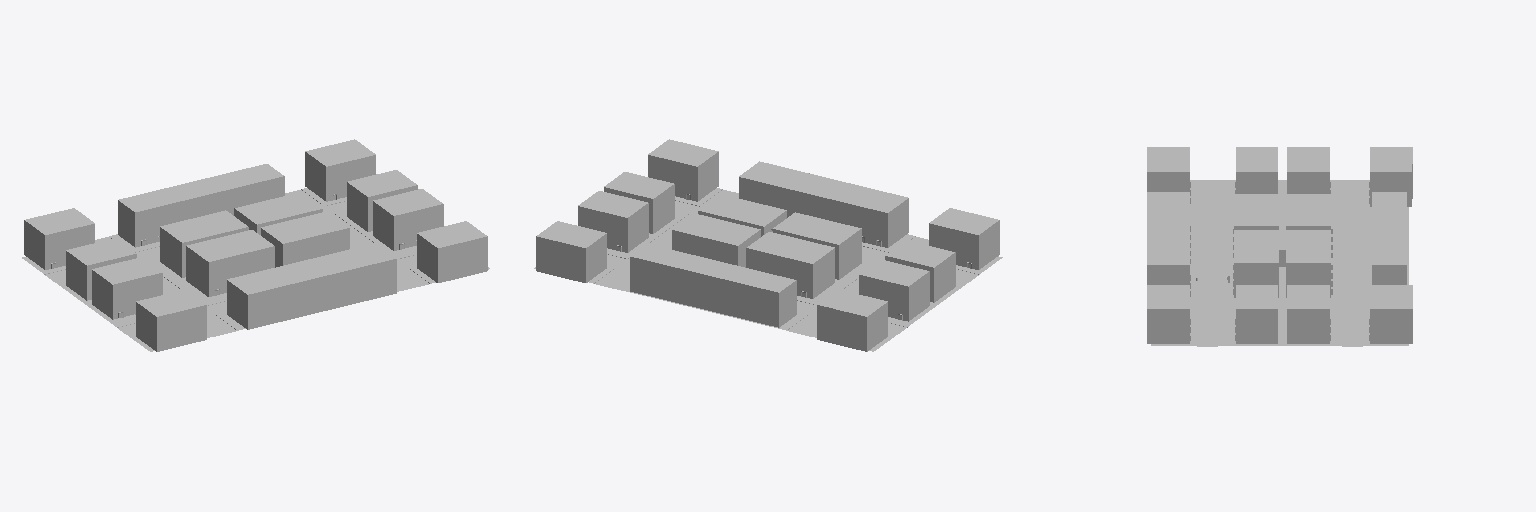
The model's file is Street.obj.
3 views of the same model, side by side, from view 1: azimuth 30°, elevation 25°; view 2: azimuth 150°, elevation 25°; view 3: azimuth 270°, elevation 25° (orthographic).
Visible parts, largest first — view 1: Street_Plane.003, Base_Building.036_Cube.022, Base_Building.022_Cube.008, Base_Building.025_Cube.011, Base_Building.017_Cube.002, Base_Building.026_Cube.012, Base_Building.040_Cube.042, Base_Building.016_Cube.029, Base_Building.041_Cube.043, Base_Building.007_Cube.037, Base_Building.052_Cube.055, Base_Building.056_Cube.059 (+28 smaller); view 2: Street_Plane.003, Base_Building.052_Cube.055, Base_Building.056_Cube.059, Base_Building.032_Cube.046, Base_Building.026_Cube.012, Base_Building.025_Cube.011, Base_Building.016_Cube.029, Base_Building.017_Cube.002, Base_Building.022_Cube.008, Base_Building.007_Cube.037, Base_Building.036_Cube.022, Base_Building.041_Cube.043 (+28 smaller); view 3: Street_Plane.003, Base_Building.019_Cube.005, Base_Building.028_Cube.014, Base_Building.045_Cube.048, Base_Building.043_Cube.045, Base_Building.035_Cube.021, Base_Building.051_Cube.054, Base_Building.054_Cube.057, Base_Building.023_Cube.009, Base_Building.038_Cube.040, Base_Building.015_Cube.028, Base_Building.020_Cube.006 (+3 smaller).
Part boxes in pixels (x1,y1,x2,y2): Street_Plane.003: (22, 188, 489, 351); Base_Building.036_Cube.022: (186, 242, 224, 296); Base_Building.022_Cube.008: (136, 298, 173, 351); Base_Building.025_Cube.011: (24, 216, 61, 269); Base_Building.017_Cube.002: (417, 229, 454, 282); Base_Building.026_Cube.012: (305, 147, 342, 201); Base_Building.040_Cube.042: (92, 265, 128, 319); Base_Building.016_Cube.029: (227, 276, 263, 329); Base_Building.041_Cube.043: (373, 197, 409, 250); Base_Building.007_Cube.037: (118, 196, 151, 247); Base_Building.052_Cube.055: (160, 223, 198, 277); Base_Building.056_Cube.059: (66, 246, 103, 300); Street_Plane.003: (534, 188, 1002, 351); Base_Building.052_Cube.055: (796, 244, 834, 298); Base_Building.056_Cube.059: (892, 267, 929, 321); Base_Building.032_Cube.046: (611, 199, 648, 252); Base_Building.026_Cube.012: (569, 229, 606, 282); Base_Building.025_Cube.011: (850, 298, 887, 351); Base_Building.016_Cube.029: (871, 194, 908, 247); Base_Building.017_Cube.002: (681, 147, 718, 201); Base_Building.022_Cube.008: (962, 216, 999, 269); Base_Building.007_Cube.037: (763, 276, 796, 327); Base_Building.036_Cube.022: (822, 225, 861, 279); Base_Building.041_Cube.043: (637, 180, 674, 233); Street_Plane.003: (1151, 180, 1408, 346); Base_Building.019_Cube.005: (1147, 301, 1190, 343); Base_Building.028_Cube.014: (1369, 301, 1412, 343); Base_Building.045_Cube.048: (1287, 301, 1330, 343); Base_Building.043_Cube.045: (1235, 301, 1277, 343); Base_Building.035_Cube.021: (1233, 254, 1278, 297); Base_Building.051_Cube.054: (1286, 254, 1332, 297); Base_Building.054_Cube.057: (1287, 164, 1329, 193); Base_Building.023_Cube.009: (1369, 164, 1411, 206); Base_Building.038_Cube.040: (1236, 164, 1277, 193); Base_Building.015_Cube.028: (1147, 256, 1190, 296); Base_Building.020_Cube.006: (1147, 164, 1190, 203).
Size of the model in its own units: 205 by 32.1 by 139.